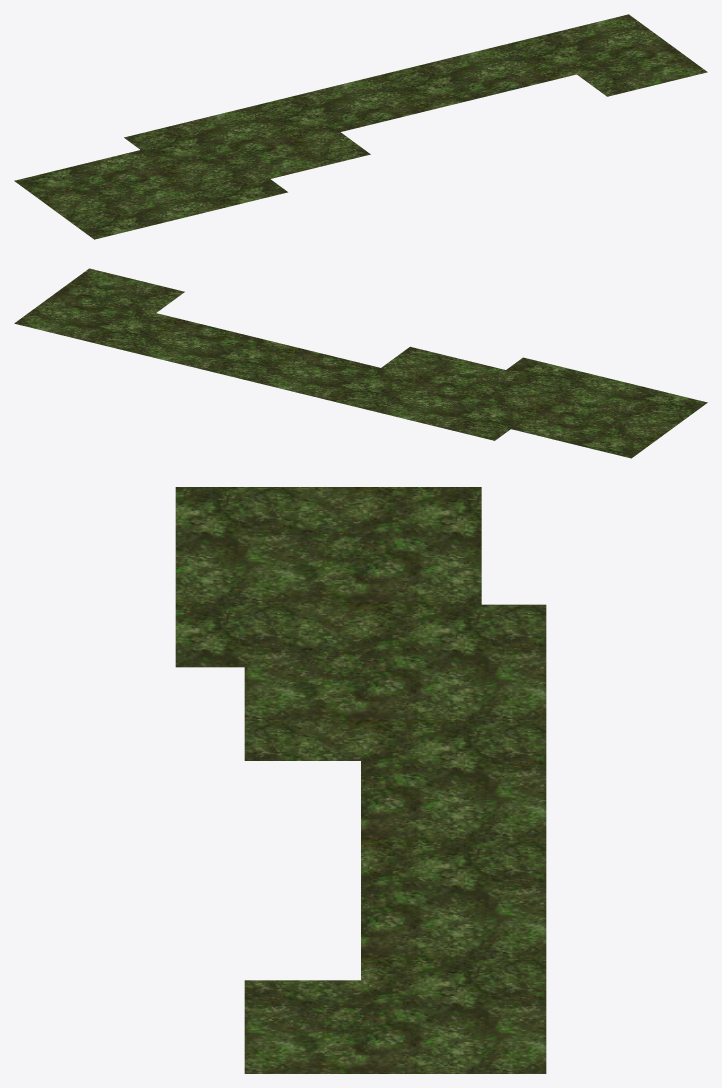
File: OVERHILL_A_01_LINE169.fbx
3 views of the same model, one above another, from view 1: azimuth 30°, elevation 25°; view 2: azimuth 150°, elevation 25°; view 3: azimuth 270°, elevation 25° (orthographic). The views are drawn at different scales.
Parts seen in each view (by area): view 1: OVERHILL_A_01_LINE169; view 2: OVERHILL_A_01_LINE169; view 3: OVERHILL_A_01_LINE169.
Boxes of the visible parts, x1,y1,x2,y2 form: OVERHILL_A_01_LINE169: (14, 14, 707, 239); OVERHILL_A_01_LINE169: (14, 268, 707, 458); OVERHILL_A_01_LINE169: (175, 487, 546, 1073).
Bounding box in the file's own units: 150000 × 0.0279 × 40000.
Materials: 1 (1 with a texture image).
